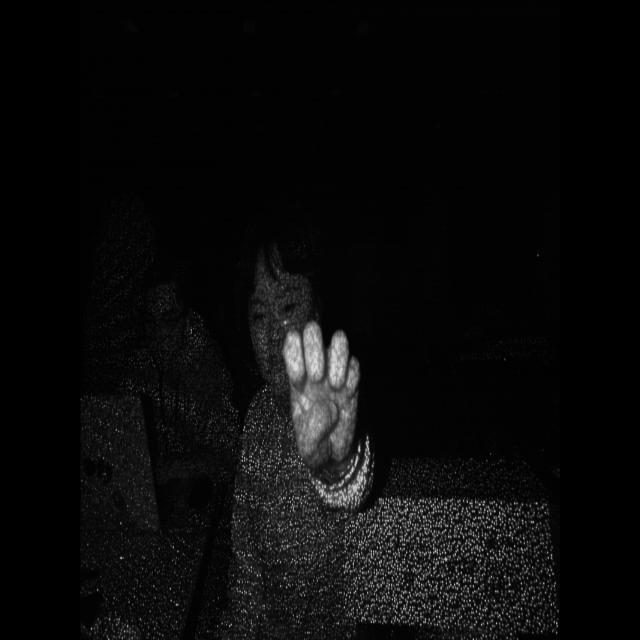E: (269, 314, 373, 480)
